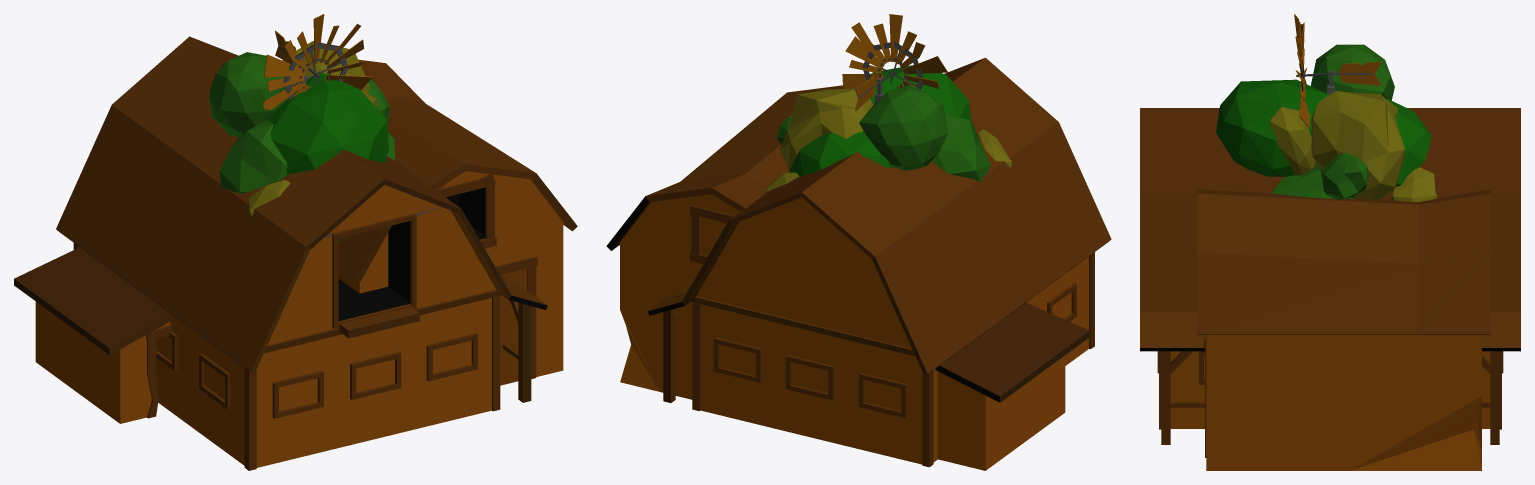
The model's file is farm-v1.glb.
3 views of the same model, side by side, from view 1: azimuth 30°, elevation 25°; view 2: azimuth 150°, elevation 25°; view 3: azimuth 270°, elevation 25° (orthographic). The views are drawn at different scales.
Visible parts, largest first — view 1: barn2, barn1, tree1, tree2, windmill, tree3; view 2: barn2, barn1, tree2, tree3, windmill, tree1; view 3: barn1, barn2, tree3, tree1, tree2, windmill.
Boxes of the visible parts, x1,y1,x2,y2 form: barn2: (56, 36, 547, 470); barn1: (14, 59, 577, 423); tree1: (267, 71, 388, 174); tree2: (209, 52, 394, 193); windmill: (262, 14, 372, 109); tree3: (248, 41, 378, 242); barn2: (648, 57, 1111, 467); barn1: (606, 85, 1089, 470); tree2: (777, 85, 990, 181); tree3: (765, 88, 1012, 192); windmill: (842, 14, 947, 111); tree1: (789, 65, 971, 176); barn1: (1197, 189, 1490, 470); barn2: (1140, 108, 1520, 444); tree3: (1269, 91, 1437, 202); tree1: (1216, 79, 1431, 186); tree2: (1272, 44, 1394, 199); windmill: (1294, 14, 1381, 128).
Size of the model in its own units: 12.97 by 11 by 10.54.
